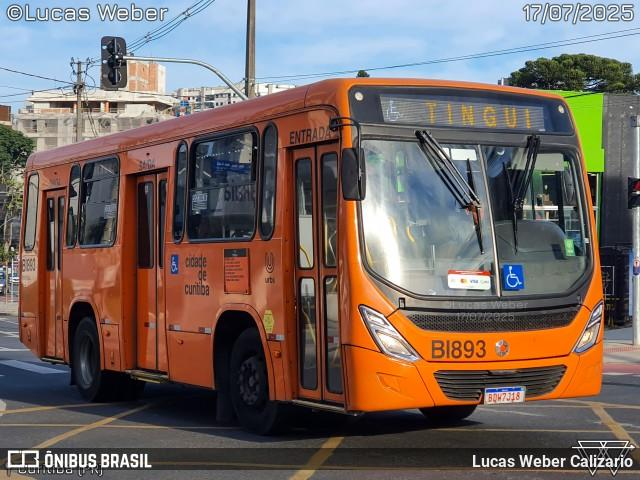TINGUI: (416, 95, 536, 139)
